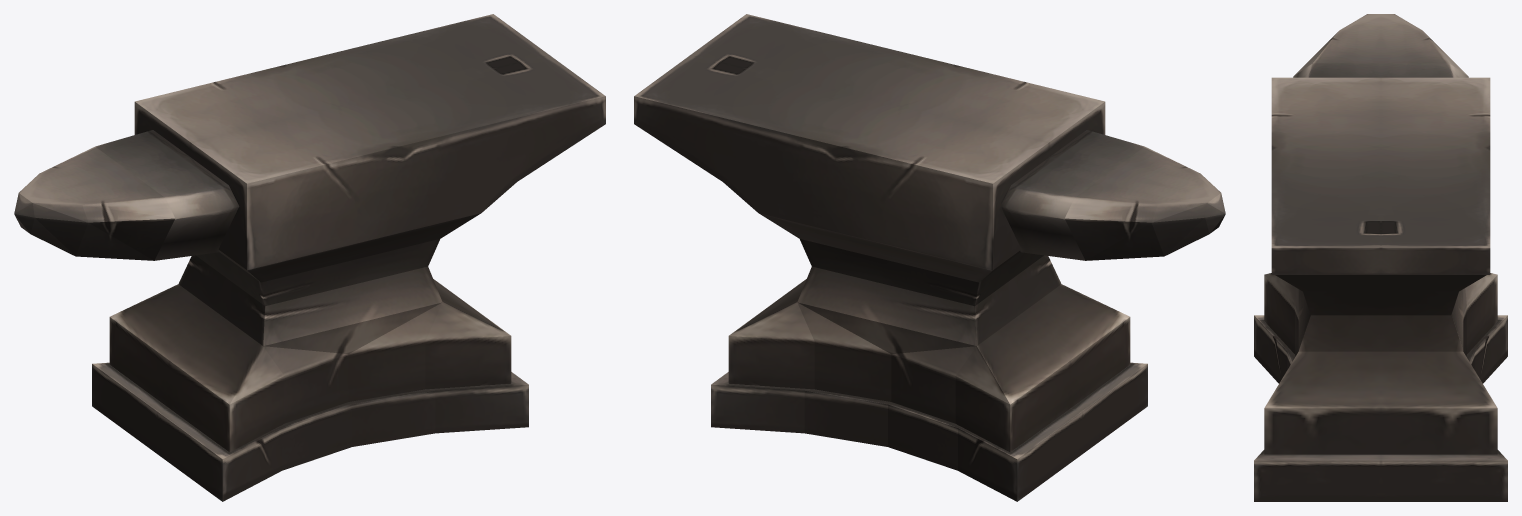
The model's file is 100_Anvil Stand.FBX.
3 renders of one model, left to right at view 1: azimuth 30°, elevation 25°; view 2: azimuth 150°, elevation 25°; view 3: azimuth 270°, elevation 25°, orthographic. The views are drawn at different scales.
Parts seen in each view (by area): view 1: Box027; view 2: Box027; view 3: Box027.
Part boxes in pixels (x1=…): Box027: x1=14, y1=14, x2=605, y2=501; Box027: x1=634, y1=14, x2=1225, y2=501; Box027: x1=1254, y1=14, x2=1507, y2=501.
Size of the model in its own units: 67.71 by 36.66 by 28.59.
